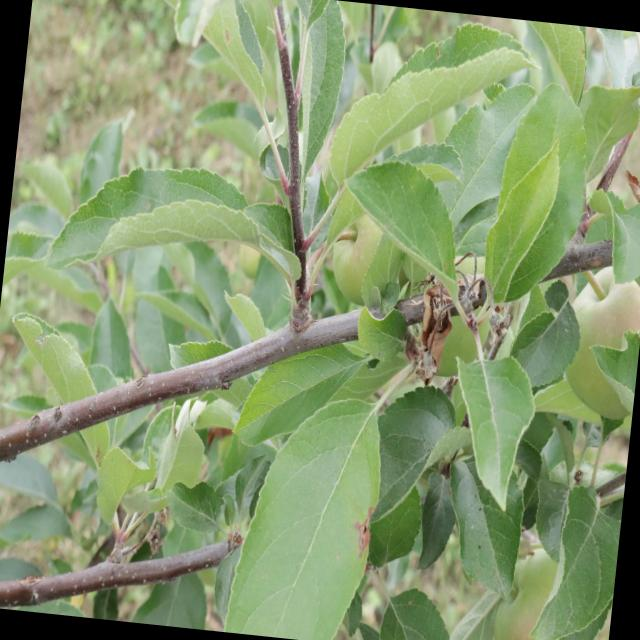-FireBlight-: (406, 269, 456, 369)
